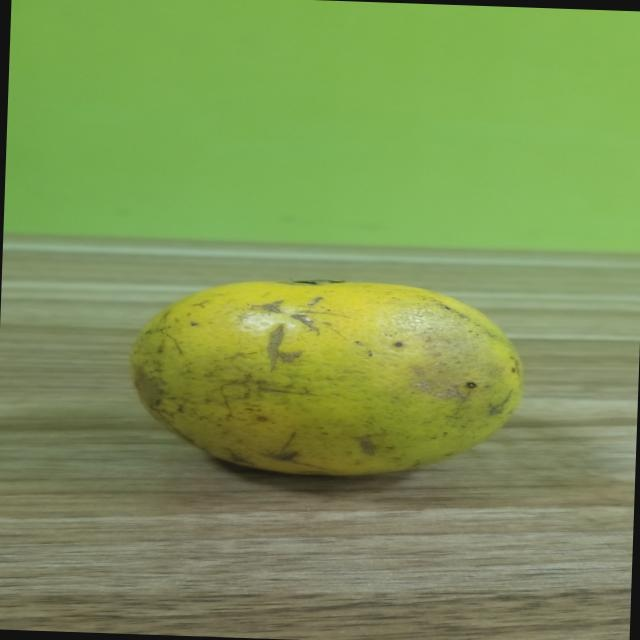agrume: (112, 262, 537, 498)
